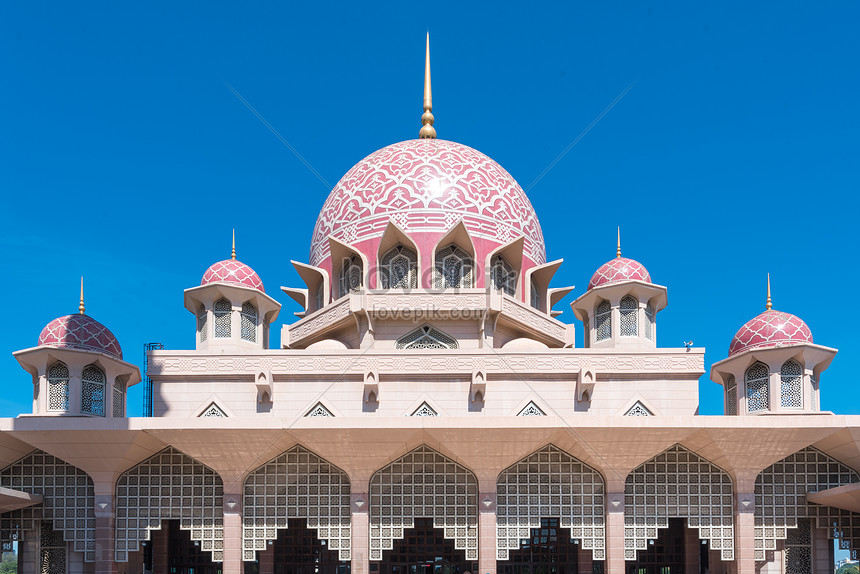Mosque: (8, 25, 859, 553)
